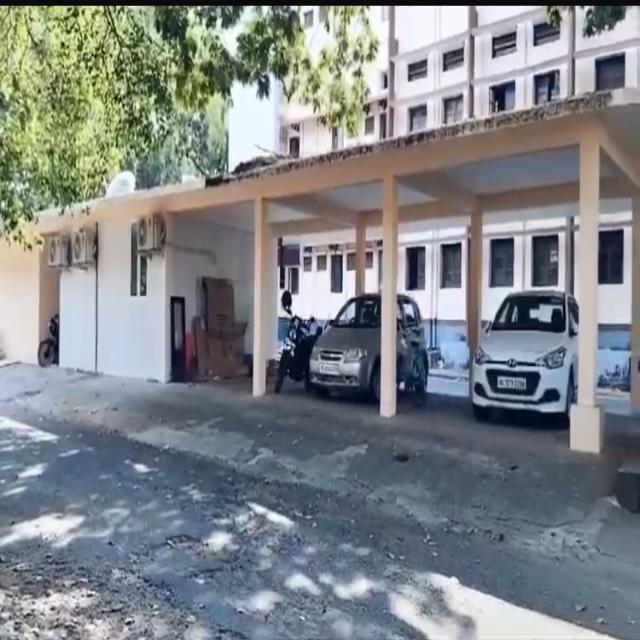car ahead at: (471, 283, 575, 417), (309, 282, 422, 390)
motorcycle ahead at: (277, 289, 311, 397)
pillar ahead at: (577, 143, 599, 454), (381, 177, 396, 420), (253, 196, 270, 399)
